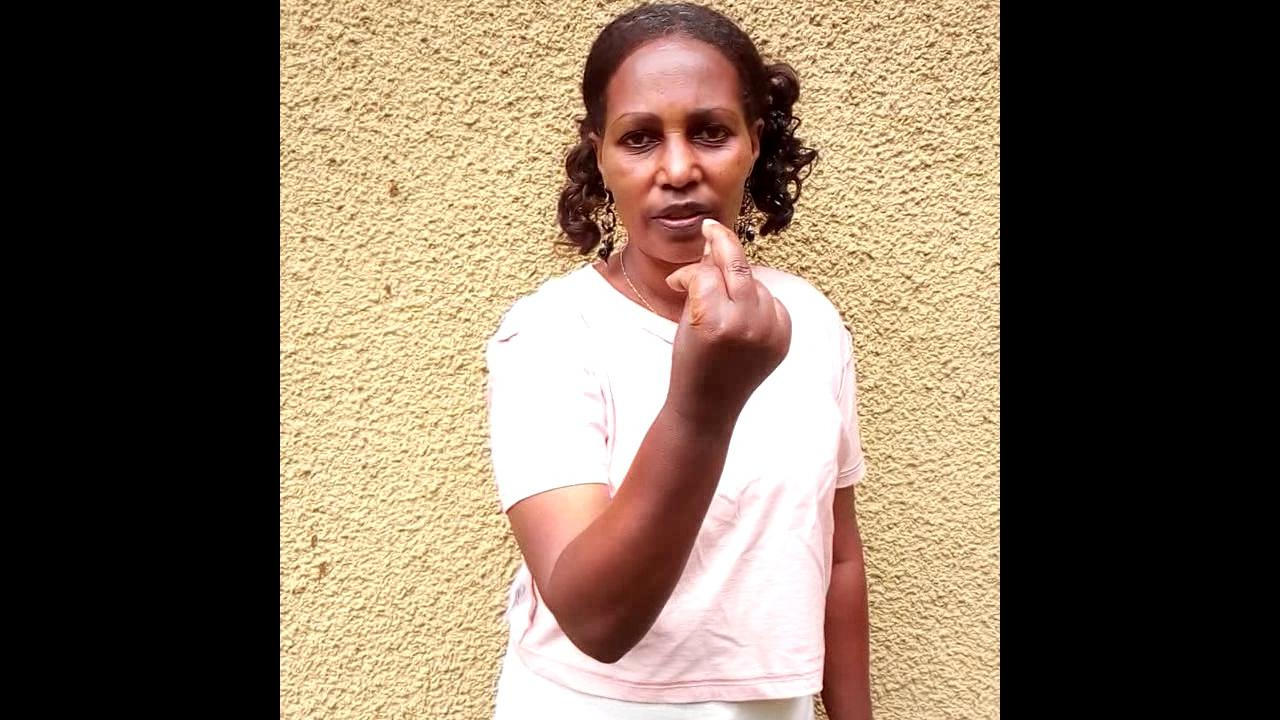CHE: (659, 216, 791, 507)
